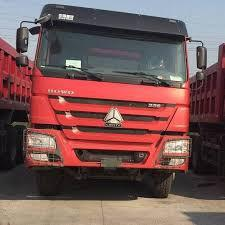truck: (23, 6, 207, 199)
